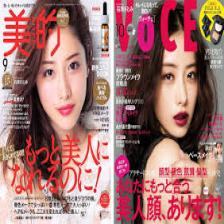paper: (0, 0, 114, 224), (113, 0, 224, 224)
